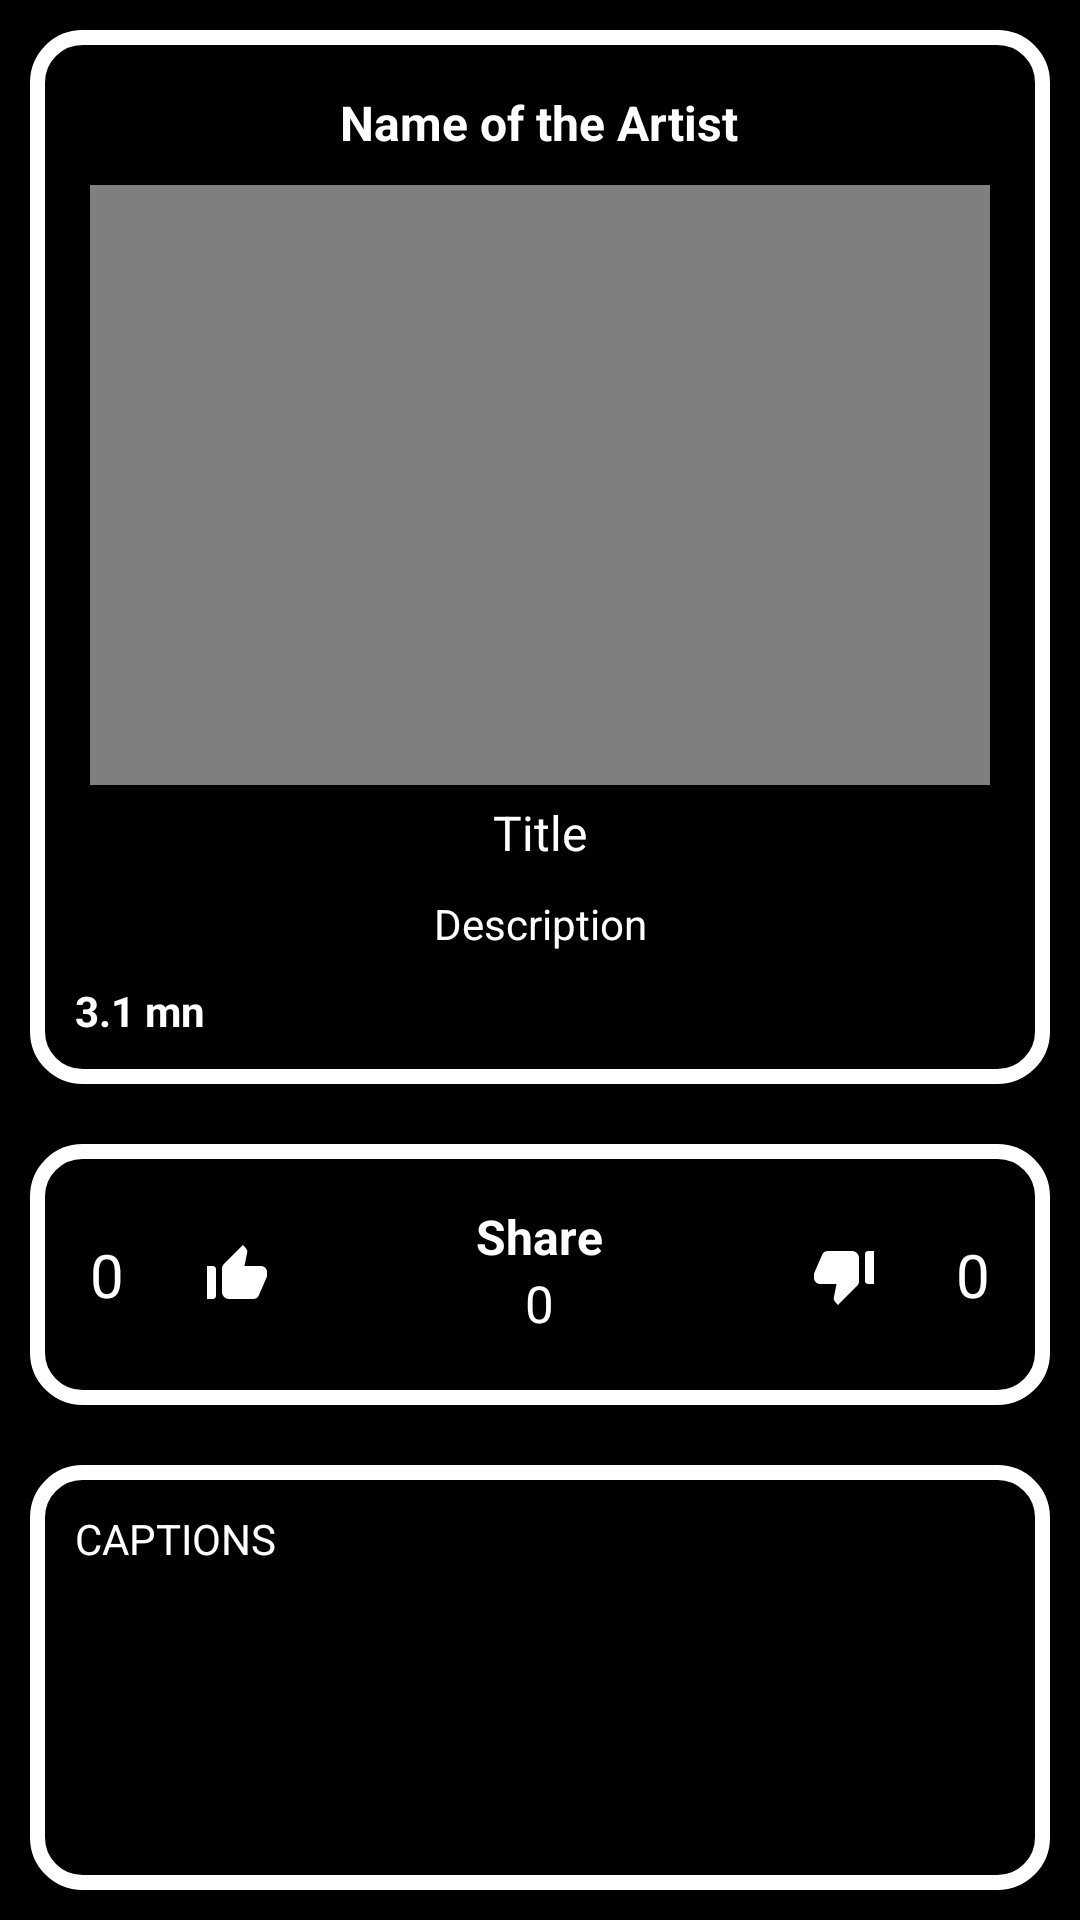

Icon click points for this 1080 x 1920 phone screenshot, format point (x, y):
dislike: point (844, 1278)
like: point (237, 1272)
